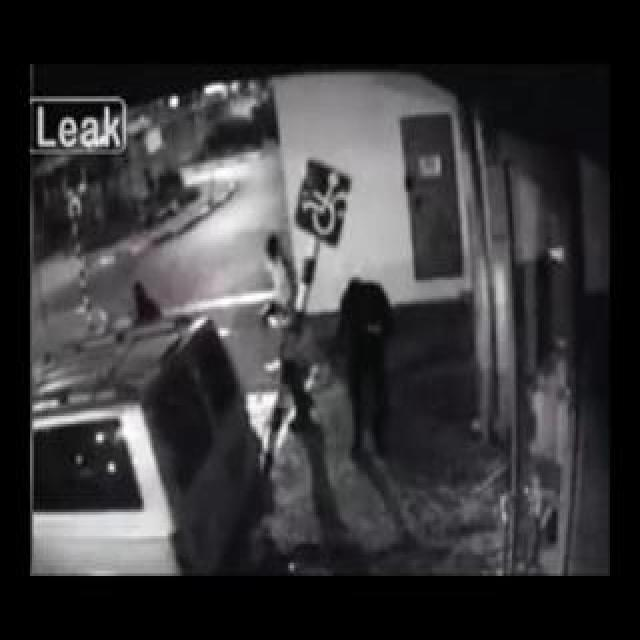thief: (236, 211, 386, 367), (115, 270, 183, 339)
